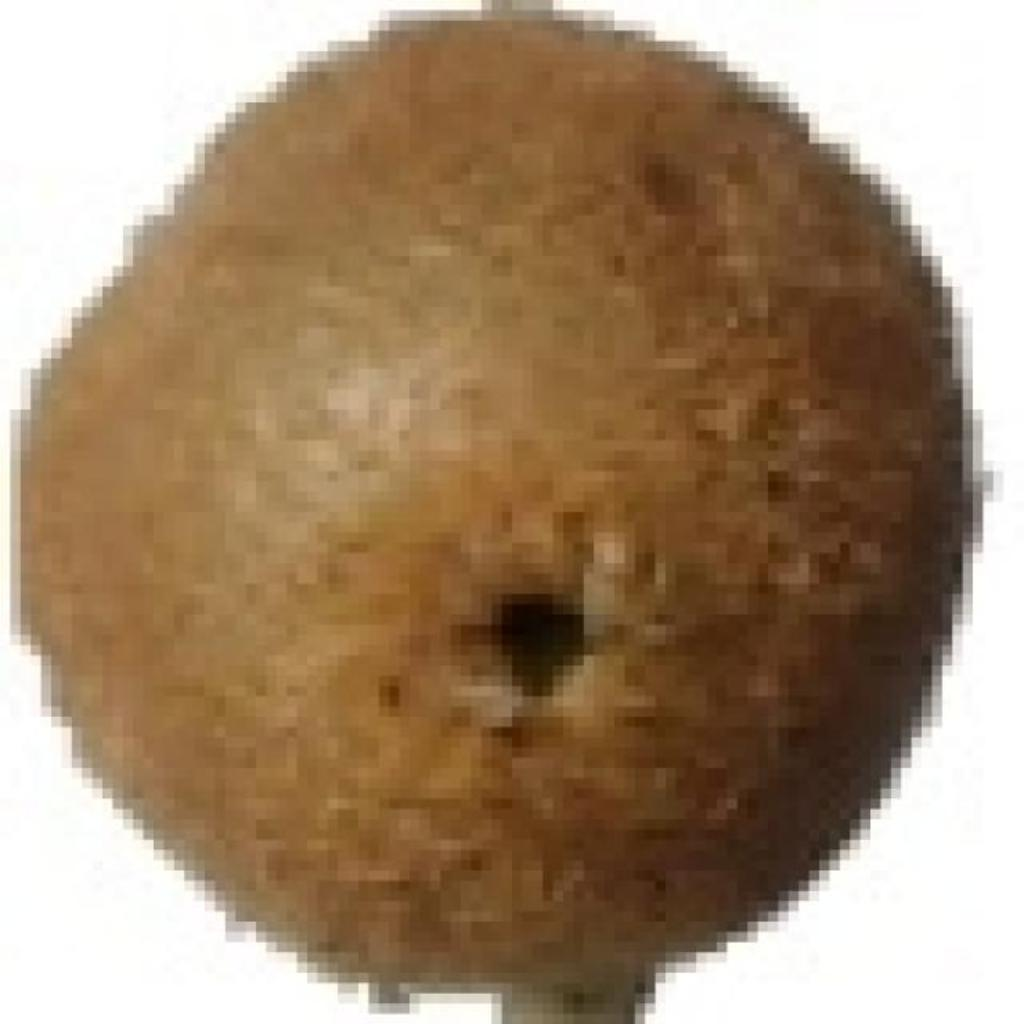kiwi: (18, 11, 953, 1024)
